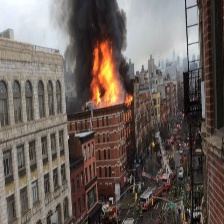fire: (88, 44, 133, 110)
smoke: (52, 1, 136, 81)
